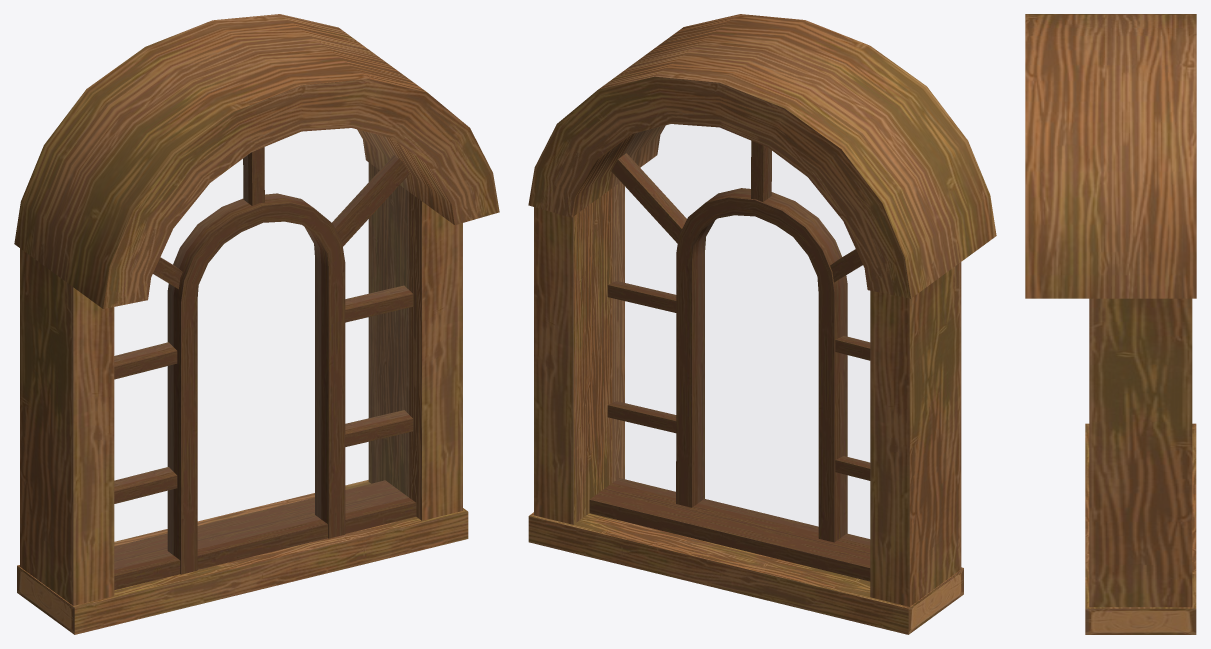
The model's file is Window_Wide_Round1.glb.
3 views of the same model, side by side, from view 1: azimuth 30°, elevation 25°; view 2: azimuth 150°, elevation 25°; view 3: azimuth 270°, elevation 25° (orthographic). The views are drawn at different scales.
Parts seen in each view (by area): view 1: Window_Wide_Round1; view 2: Window_Wide_Round1; view 3: Window_Wide_Round1.
Part boxes in pixels (x1,y1,x2,y2): Window_Wide_Round1: (14, 14, 499, 634); Window_Wide_Round1: (528, 14, 996, 634); Window_Wide_Round1: (1025, 14, 1196, 634).
Bounding box in the file's own units: 1.36 × 1.73 × 0.5296.
2 materials, 1 textured.
